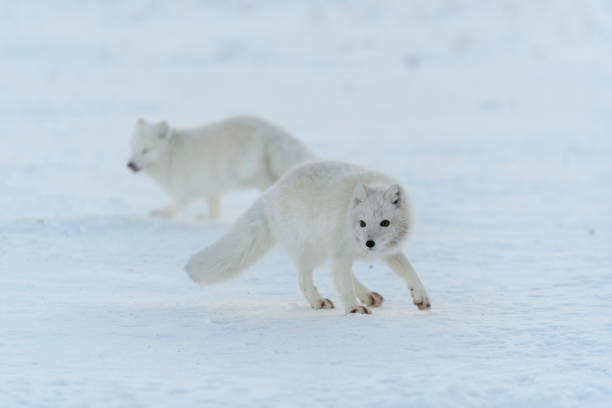arcticfox: (337, 185, 410, 261)
